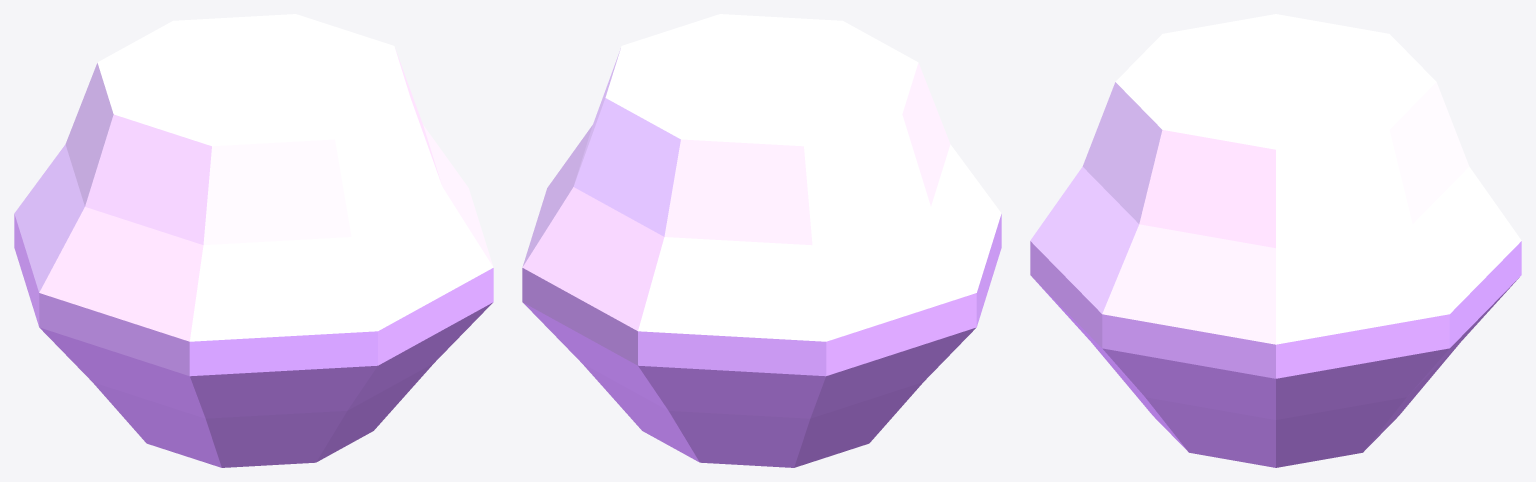
The model's file is 16-Crafting_gema_tallada.glb.
3 renders of one model, left to right at view 1: azimuth 30°, elevation 25°; view 2: azimuth 150°, elevation 25°; view 3: azimuth 270°, elevation 25°, orthographic.
Parts seen in each view (by area): view 1: SM_Gema_Cuerpo; view 2: SM_Gema_Cuerpo; view 3: SM_Gema_Cuerpo.
Boxes of the visible parts, x1,y1,x2,y2 form: SM_Gema_Cuerpo: [14, 14, 493, 467]; SM_Gema_Cuerpo: [522, 14, 1001, 467]; SM_Gema_Cuerpo: [1030, 14, 1521, 467].
Size of the model in its own units: 0.3 by 0.225 by 0.3.
